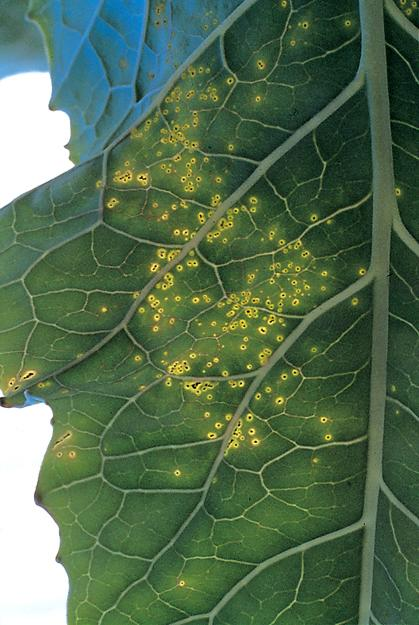Tomato leaf bacterial spot: (21, 22, 418, 609)
